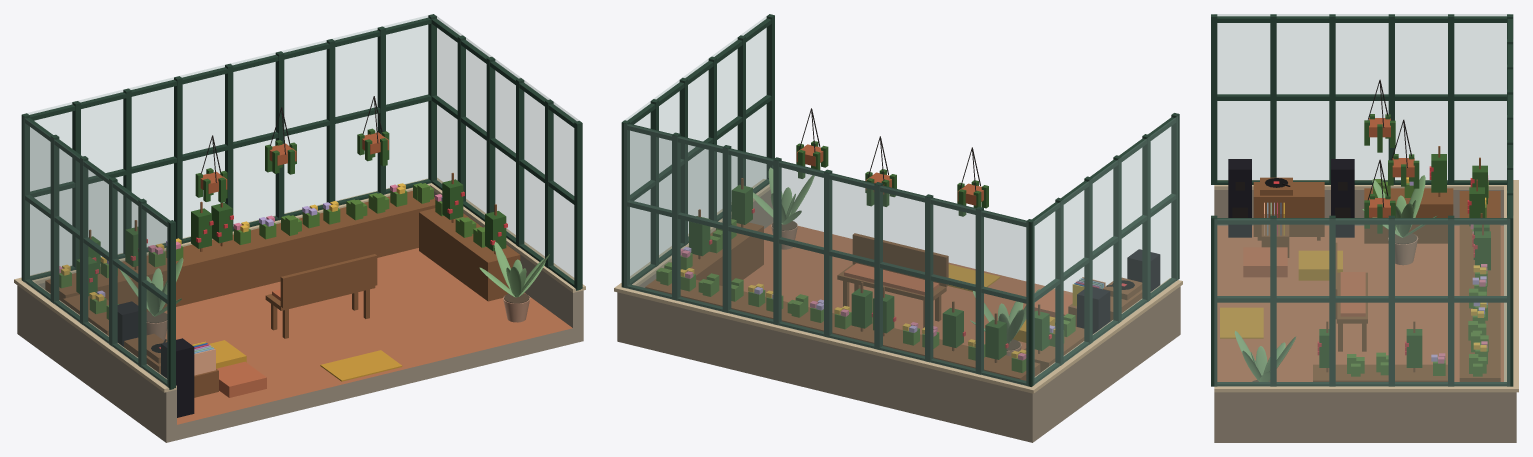
The model's file is map-greenhouse.glb.
3 views of the same model, side by side, from view 1: azimuth 30°, elevation 25°; view 2: azimuth 150°, elevation 25°; view 3: azimuth 270°, elevation 25° (orthographic). The views are drawn at different scales.
Parts seen in each view (by area): view 1: Greenhouse_Glass, Greenhouse_Walls, Floor_Slab, Planter_Beds, Record_Player, Bench, Hanging_Baskets, Plant_Loft_A, Doormat, Plant_Stairs; view 2: Greenhouse_Glass, Greenhouse_Walls, Floor_Slab, Planter_Beds, Bench, Record_Player, Hanging_Baskets, Plant_Loft_A, Plant_Stairs, Doormat; view 3: Greenhouse_Glass, Greenhouse_Walls, Floor_Slab, Planter_Beds, Record_Player, Hanging_Baskets, Bench, Plant_Stairs, Doormat, Plant_Loft_A.
Boxes of the visible parts, <box> form: Greenhouse_Glass: <box>23,15,579,387</box>; Greenhouse_Walls: <box>14,14,585,427</box>; Floor_Slab: <box>17,248,583,442</box>; Planter_Beds: <box>45,173,520,335</box>; Record_Player: <box>117,301,266,417</box>; Bench: <box>265,254,377,338</box>; Hanging_Baskets: <box>195,96,389,202</box>; Plant_Loft_A: <box>479,242,549,322</box>; Doormat: <box>320,350,402,381</box>; Plant_Stairs: <box>120,257,183,340</box>; Greenhouse_Glass: <box>624,16,1177,385</box>; Greenhouse_Walls: <box>614,14,1182,427</box>; Floor_Slab: <box>617,224,1180,442</box>; Planter_Beds: <box>645,178,1084,380</box>; Bench: <box>837,233,948,327</box>; Record_Player: <box>1009,249,1160,342</box>; Hanging_Baskets: <box>796,108,988,216</box>; Plant_Loft_A: <box>753,167,814,249</box>; Plant_Stairs: <box>970,289,1039,356</box>; Doormat: <box>948,264,1000,291</box>; Greenhouse_Glass: <box>1214,14,1509,386</box>; Greenhouse_Walls: <box>1211,14,1518,427</box>; Floor_Slab: <box>1214,225,1516,442</box>; Planter_Beds: <box>1313,146,1500,381</box>; Record_Player: <box>1228,159,1354,280</box>; Hanging_Baskets: <box>1364,79,1419,233</box>; Bench: <box>1335,242,1367,351</box>; Plant_Stairs: <box>1362,175,1436,265</box>; Doormat: <box>1220,307,1263,338</box>; Plant_Loft_A: <box>1234,331,1296,381</box>.
Bounding box in the file's own units: 6.26 × 3.12 × 3.9.
